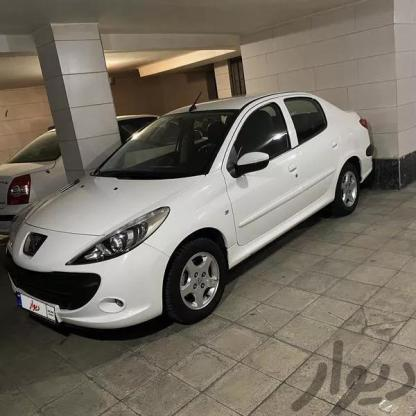Car: (0, 89, 377, 338), (0, 96, 187, 248)
